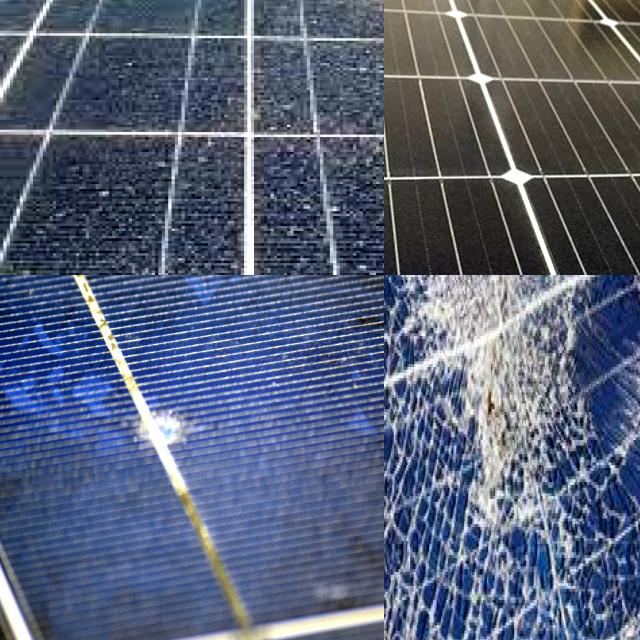crack: (469, 73, 640, 213), (384, 168, 601, 275), (384, 63, 536, 207), (493, 154, 640, 275)
dust: (169, 156, 384, 275), (3, 144, 156, 275), (208, 0, 383, 96), (28, 0, 178, 105), (194, 61, 384, 132)
hotspot: (384, 275, 585, 514), (384, 563, 503, 640), (577, 517, 640, 640)
shadow: (113, 386, 232, 502)
